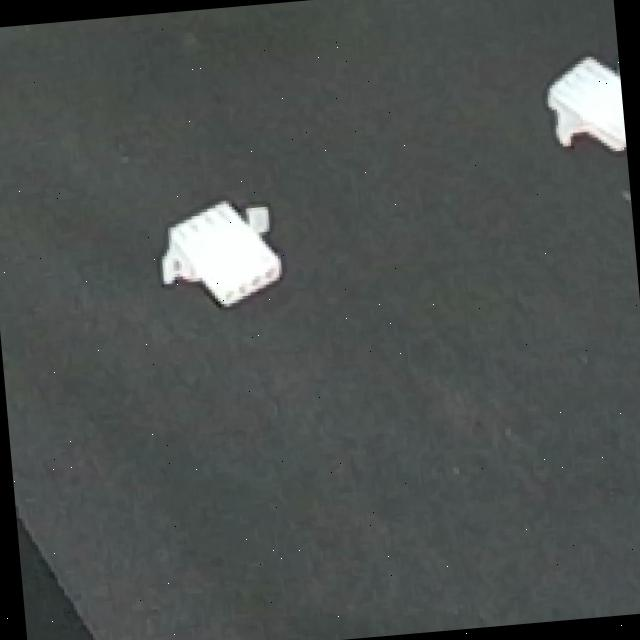Target: (145, 183, 297, 319), (532, 39, 628, 172)
